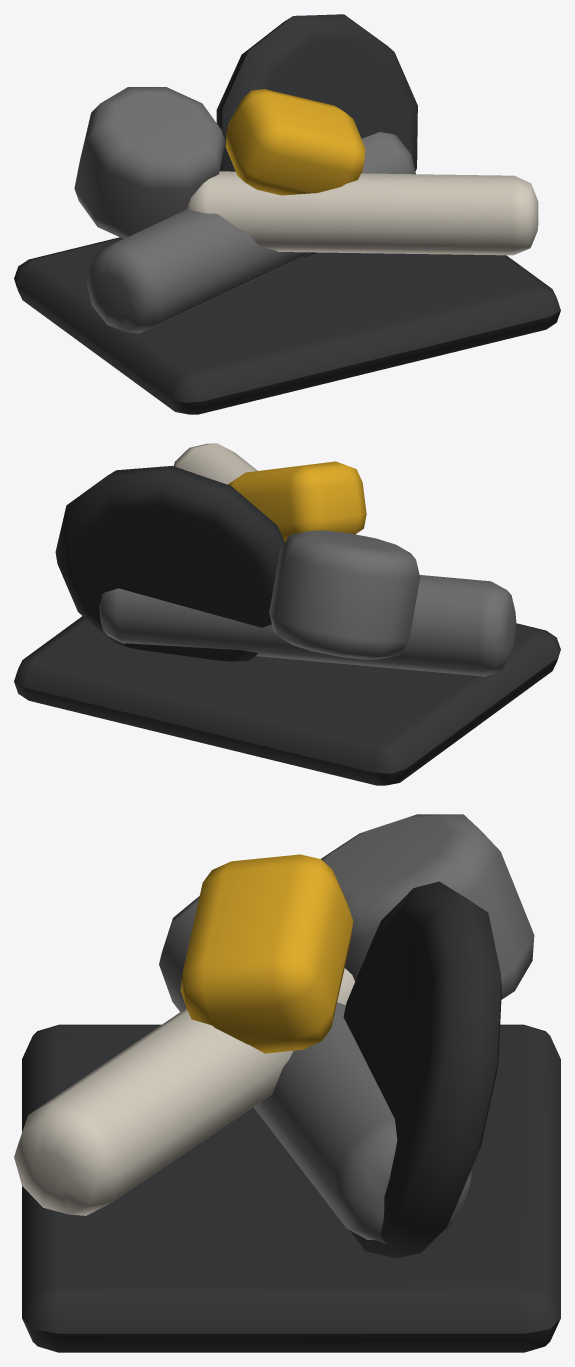
The model's file is yard-parts.glb.
The picture shows the model from 3 angles, top to bottom: view 1: azimuth 30°, elevation 25°; view 2: azimuth 150°, elevation 25°; view 3: azimuth 270°, elevation 25°; orthographic projection. The views are drawn at different scales.
Parts seen in each view (by area): view 1: yard-parts; view 2: yard-parts; view 3: yard-parts.
Part boxes in pixels (x1,y1,x2,y2): yard-parts: [14, 14, 560, 414]; yard-parts: [14, 443, 560, 785]; yard-parts: [14, 814, 560, 1352].
Size of the model in its own units: 0.5761 by 0.3338 by 0.4465.
